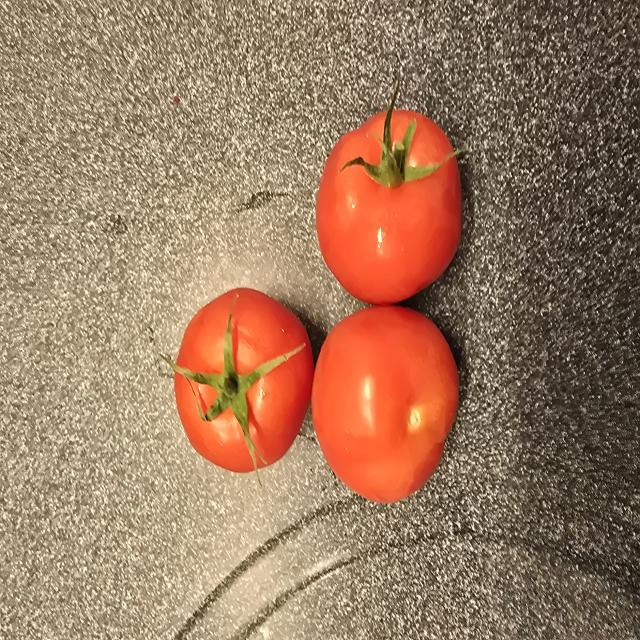Tomato: (312, 304, 458, 502), (316, 105, 461, 304), (174, 288, 314, 473)
